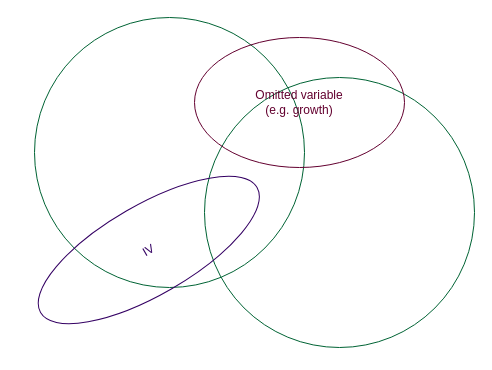
Some shapes in this 492 by 370 pixel diagram are drawn without their labels. The box of each missing label's shape, as (x1, y1, x2, y2) in pixels:
Pollution: (34, 16, 304, 288)
Productivity: (204, 76, 474, 348)
